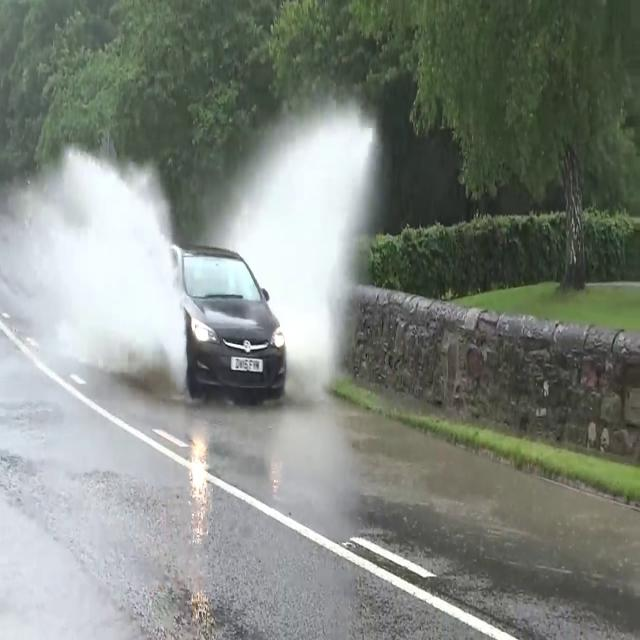license-plate-annotation: (228, 346, 271, 376)
